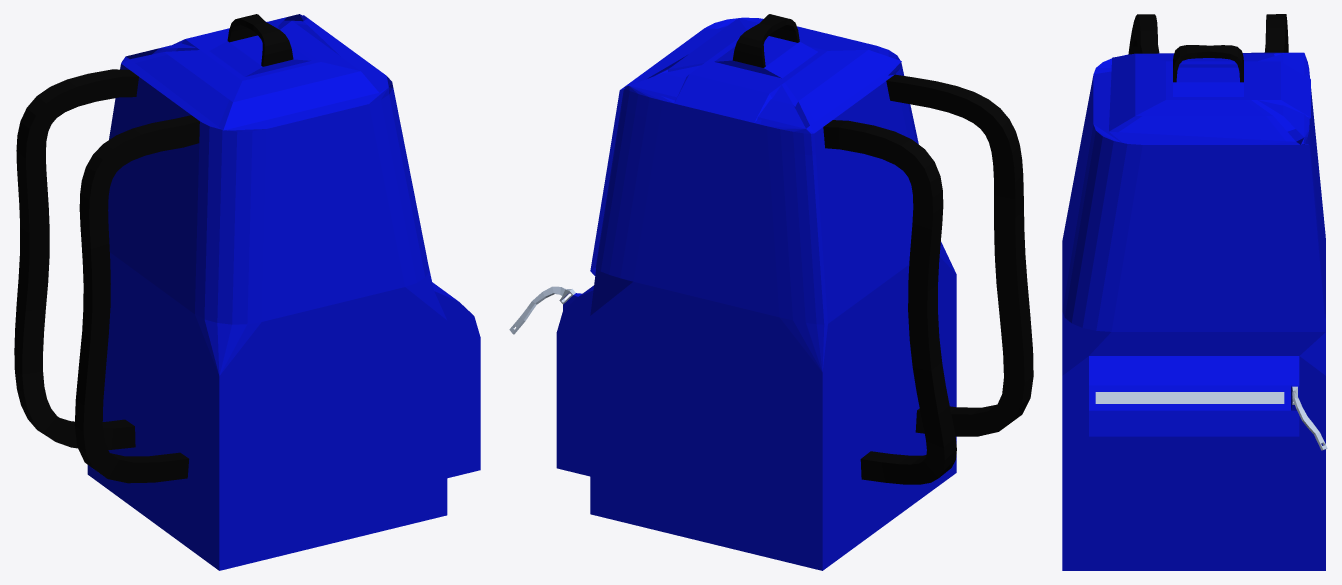
File: MocgilaBlender 1.fbx
The picture shows the model from 3 angles, left to right: view 1: azimuth 30°, elevation 25°; view 2: azimuth 150°, elevation 25°; view 3: azimuth 270°, elevation 25°; orthographic projection.
Visible parts, largest first — view 1: Cube; view 2: Cube; view 3: Cube.
Part boxes in pixels (x1,y1,x2,y2): Cube: (14,14,480,570); Cube: (509,14,1033,570); Cube: (1062,14,1327,570).
Bounding box in the file's own units: 364 × 390 × 201.
